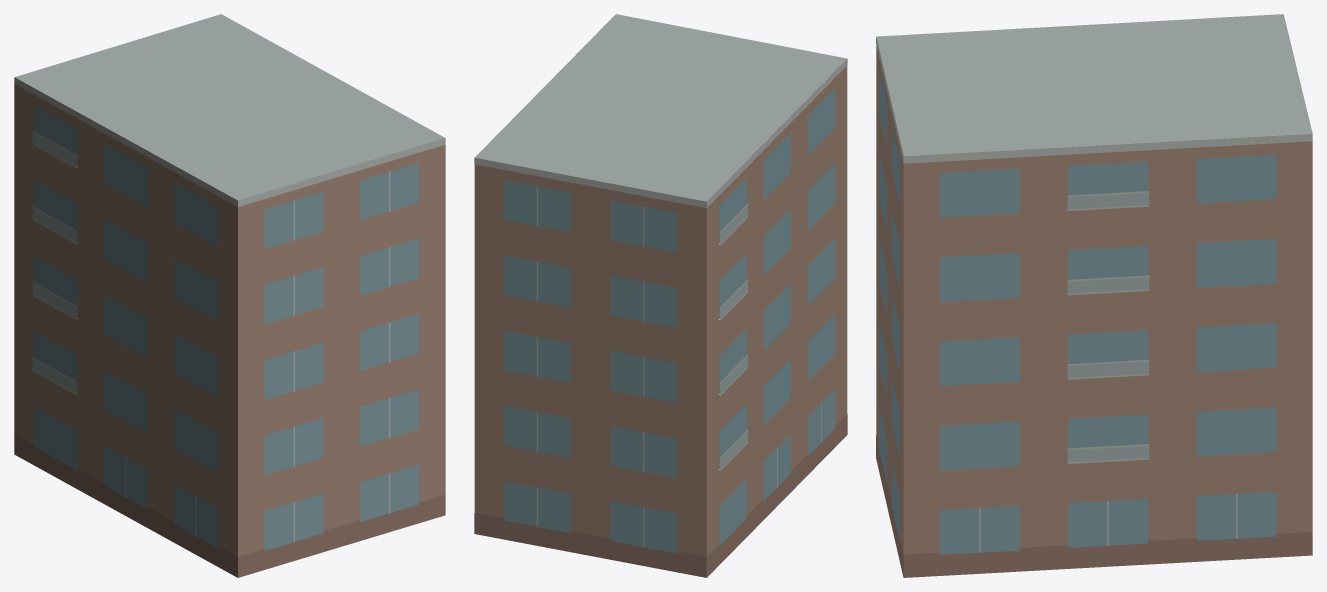
The model's file is survey-upis-32675679.glb.
3 views of the same model, side by side, from view 1: azimuth 30°, elevation 25°; view 2: azimuth 150°, elevation 25°; view 3: azimuth 270°, elevation 25° (orthographic). The views are drawn at different scales.
Visible parts, largest first — view 1: survey-upis-32675679.tmp; view 2: survey-upis-32675679.tmp; view 3: survey-upis-32675679.tmp.
Boxes of the visible parts, <box> form: survey-upis-32675679.tmp: <box>14,14,445,577</box>; survey-upis-32675679.tmp: <box>474,14,847,577</box>; survey-upis-32675679.tmp: <box>876,14,1312,577</box>.
Bounding box in the file's own units: 10.08 × 13.9 × 13.06.
